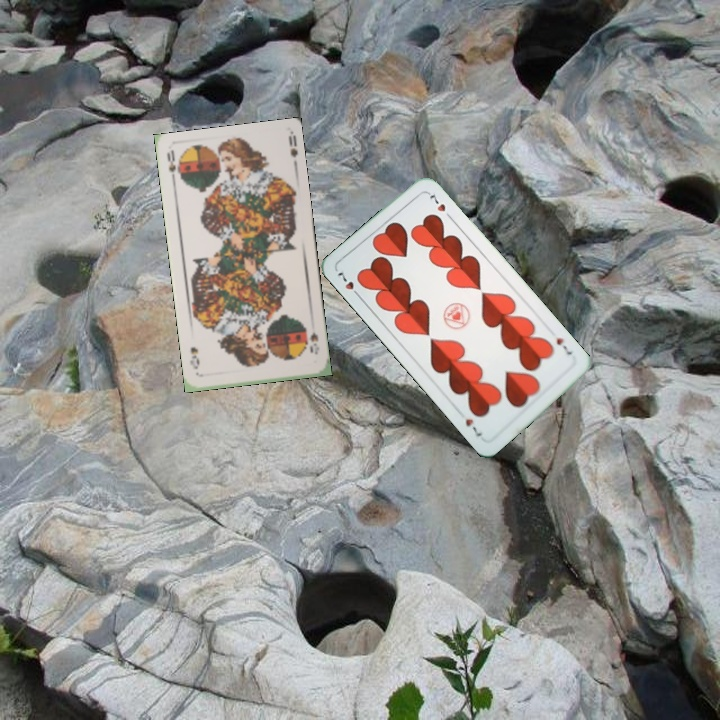H7: (333, 268, 364, 301), (552, 334, 576, 358)
SO: (163, 147, 181, 188), (302, 323, 322, 357)
